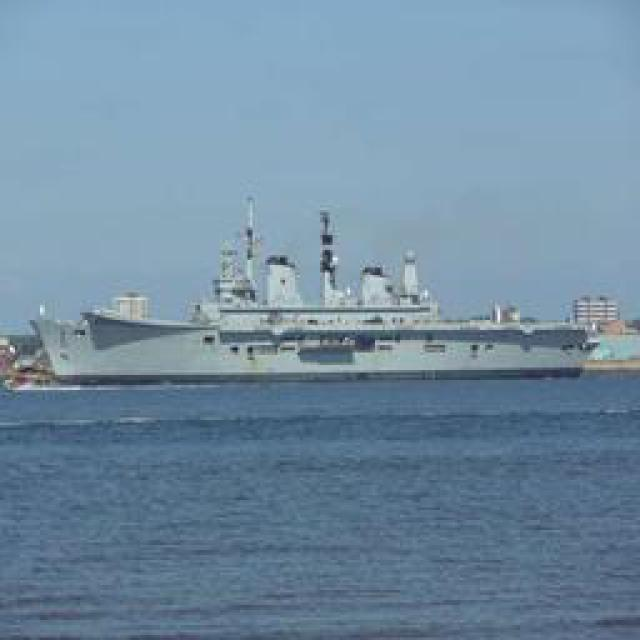Ship: (34, 191, 604, 386)
